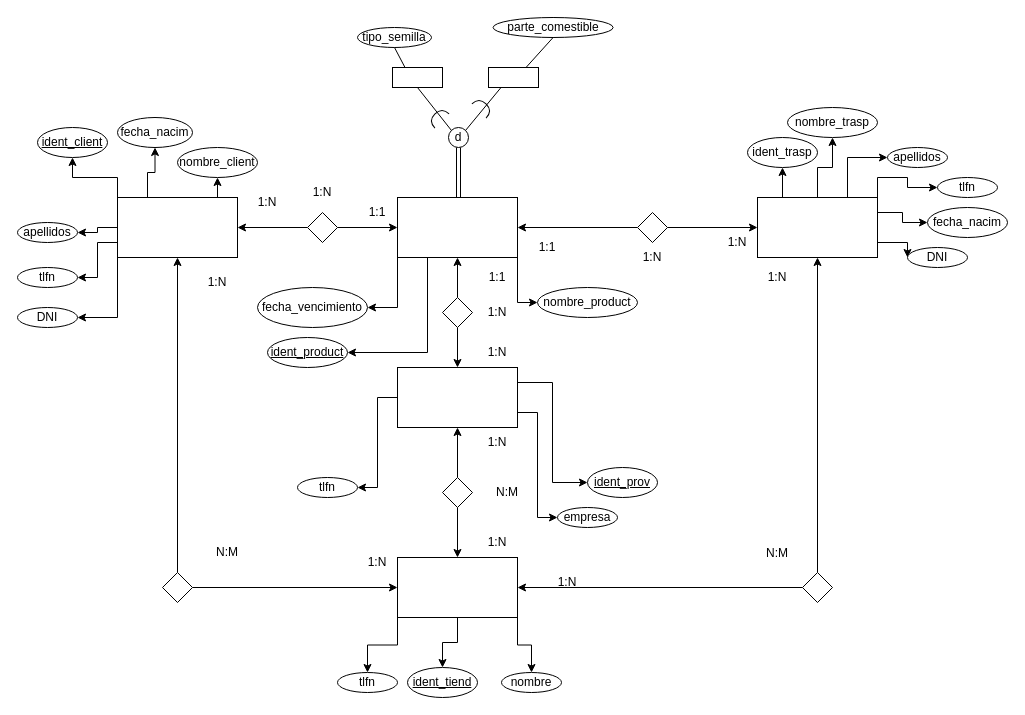
Image size: 1025x715. Some labels were removed from this diagram. The shapes that lost their labels are listed below. From the top down, each one's centre as x and y in pixels, then its label:
At point 417,77: "fruta".
At point 513,77: "verdura".
At point 177,227: "CLIENTE".
At point 457,227: "PRODUCTOS".
At point 817,227: "TRASPORTISTA".
At point 457,397: "PROVEEDOR".
At point 457,587: "TIENDA".
